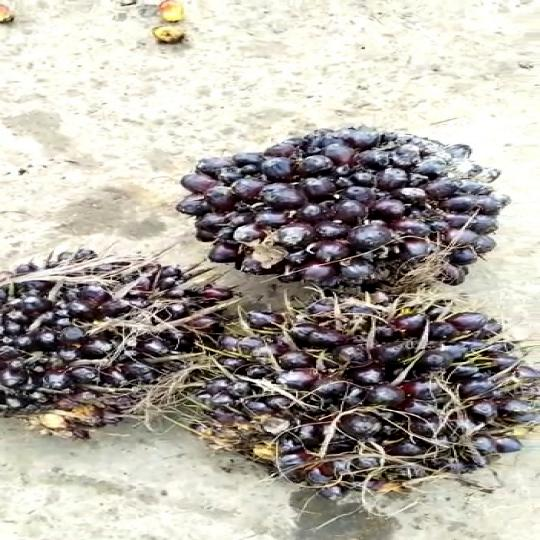mentah: (195, 290, 540, 507), (173, 127, 528, 295), (0, 254, 240, 430)
